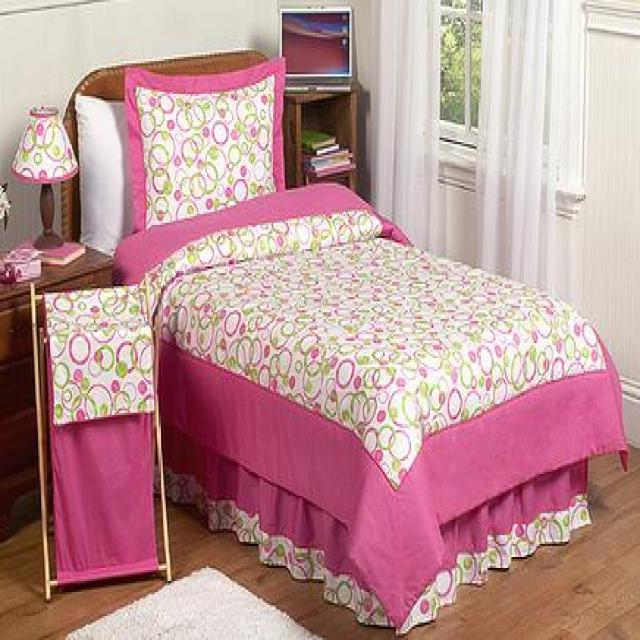bed: (57, 48, 630, 634)
